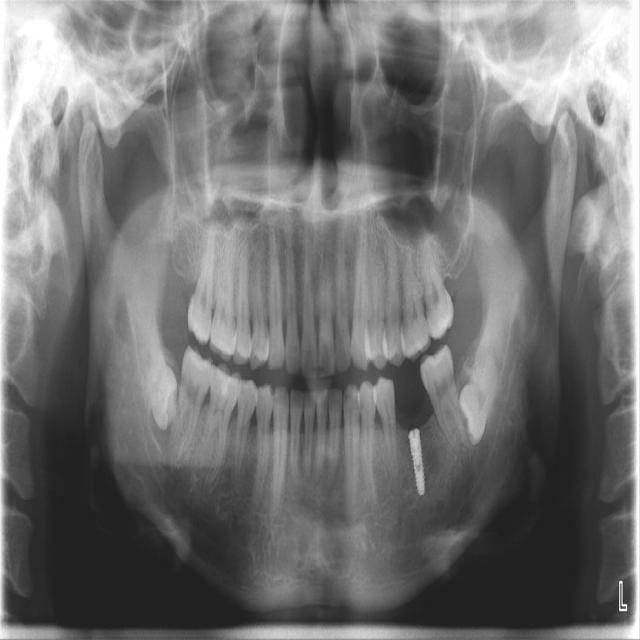Filling: (216, 371, 233, 402)
Implant: (410, 430, 425, 498)
impacted tooth: (460, 342, 504, 445), (134, 333, 177, 425)
